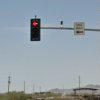Traffic light: (23, 11, 50, 52)
